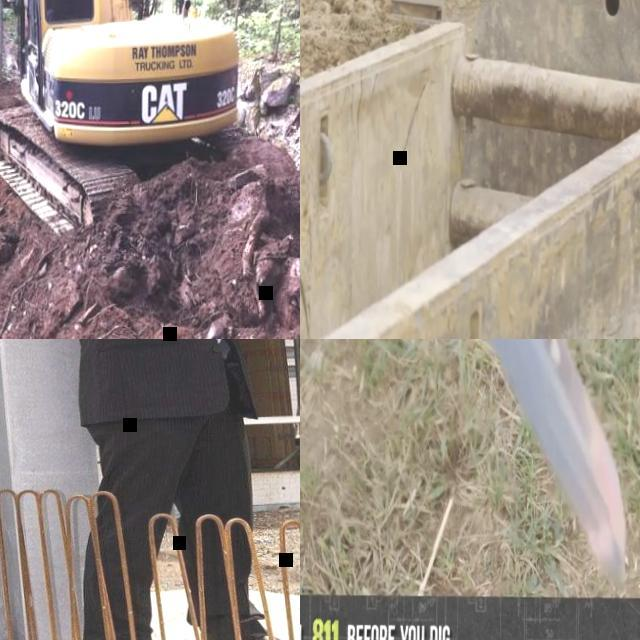machinery: (0, 0, 254, 251)
no_vest: (55, 339, 249, 414)
person: (45, 339, 300, 640)
